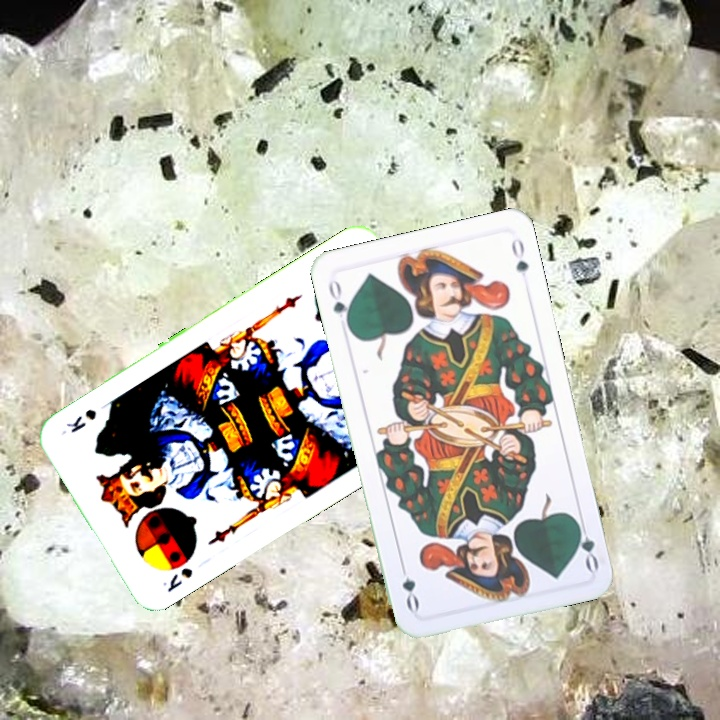GO: (571, 514, 602, 574), (324, 276, 353, 332)
SK: (158, 563, 196, 595)
